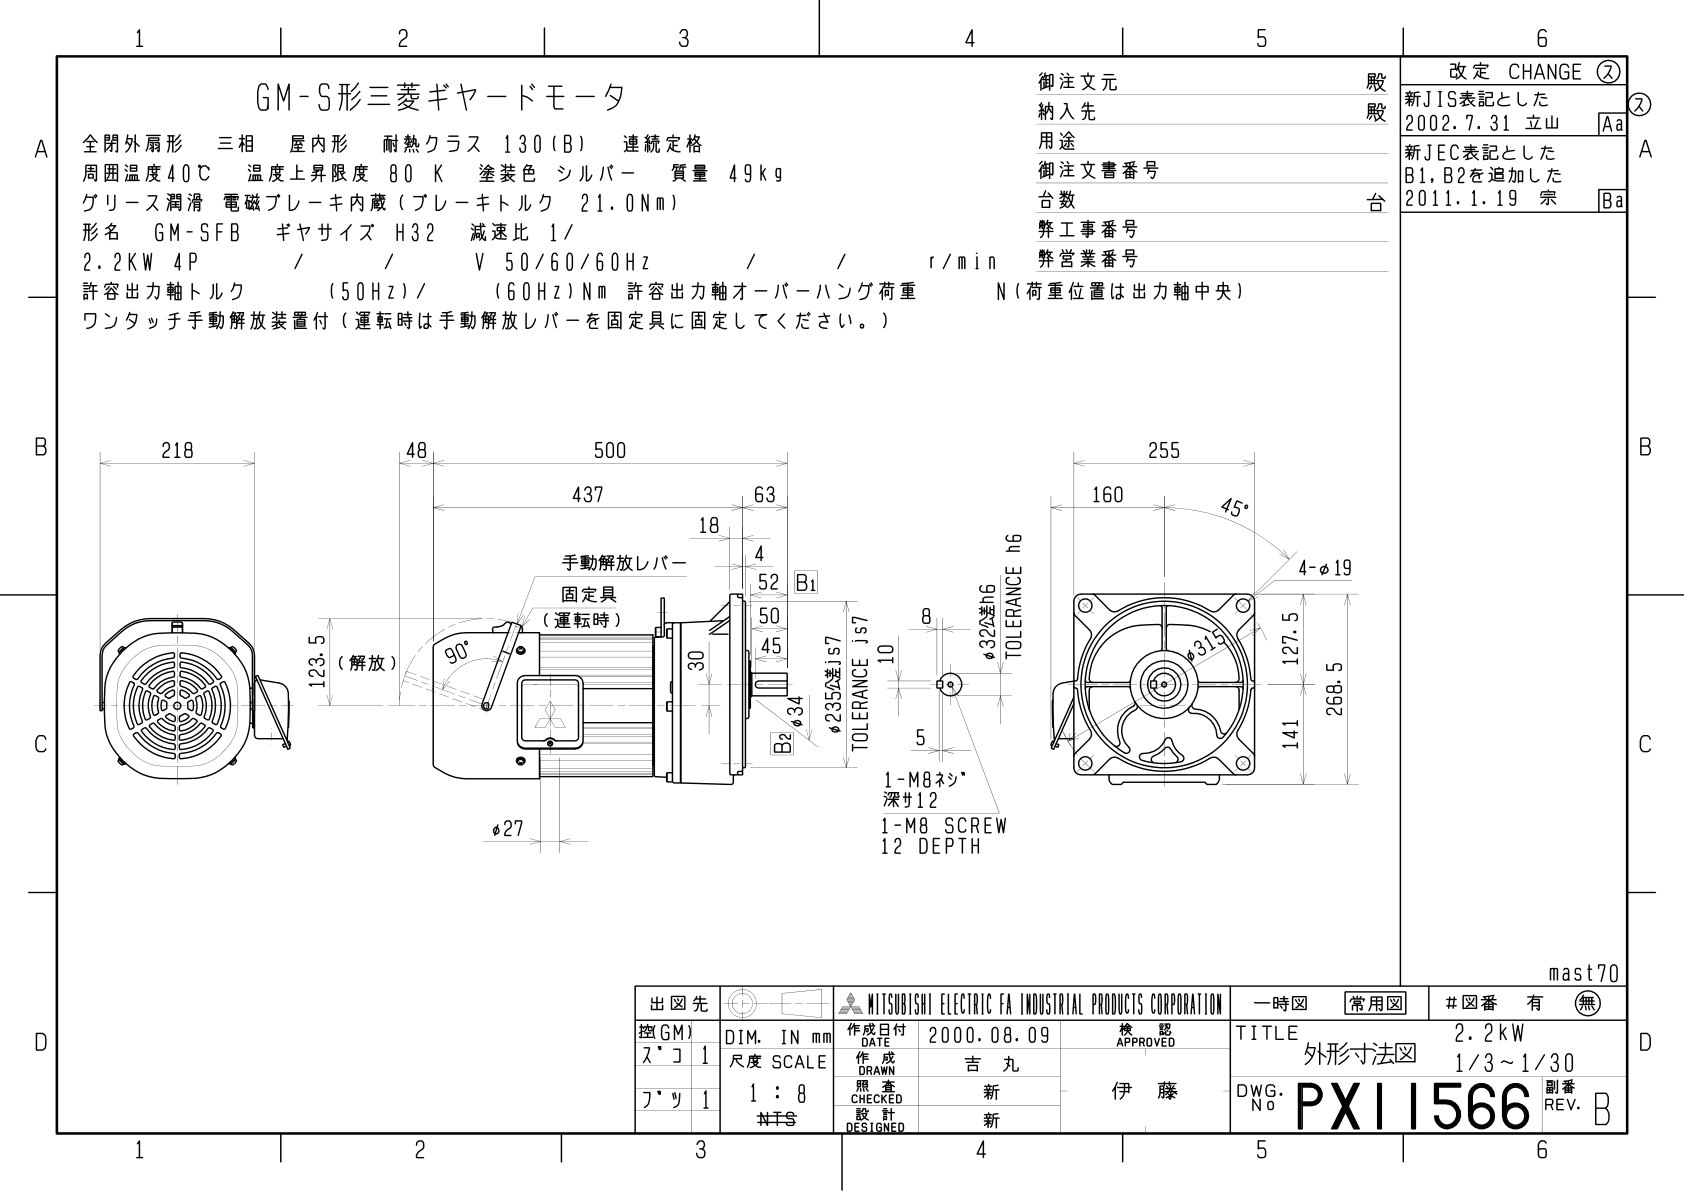GM_S_手動ブレーキ＿三相_フランジ: (70, 409, 1383, 918)
